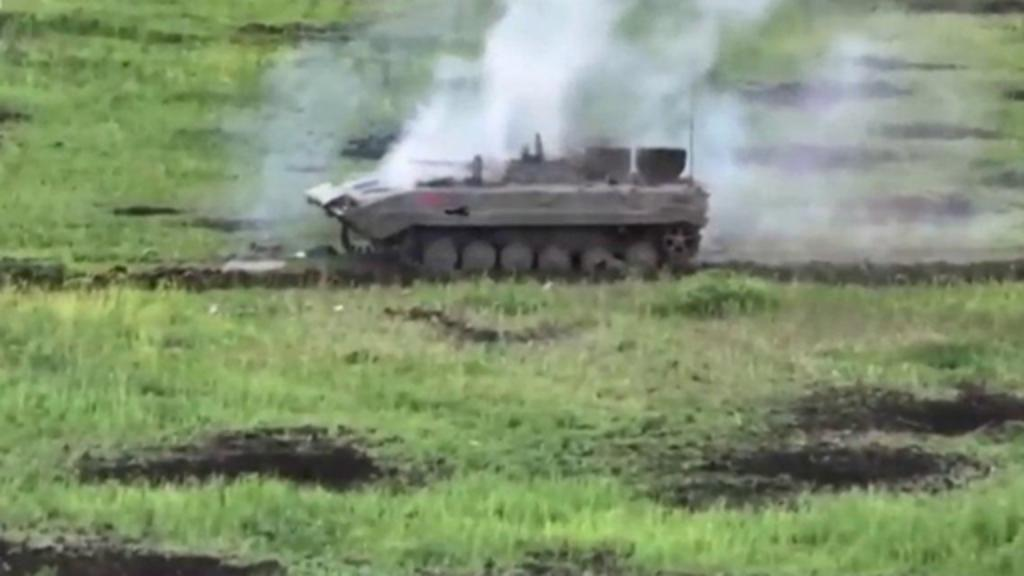APC-IFV: (304, 104, 706, 282)
